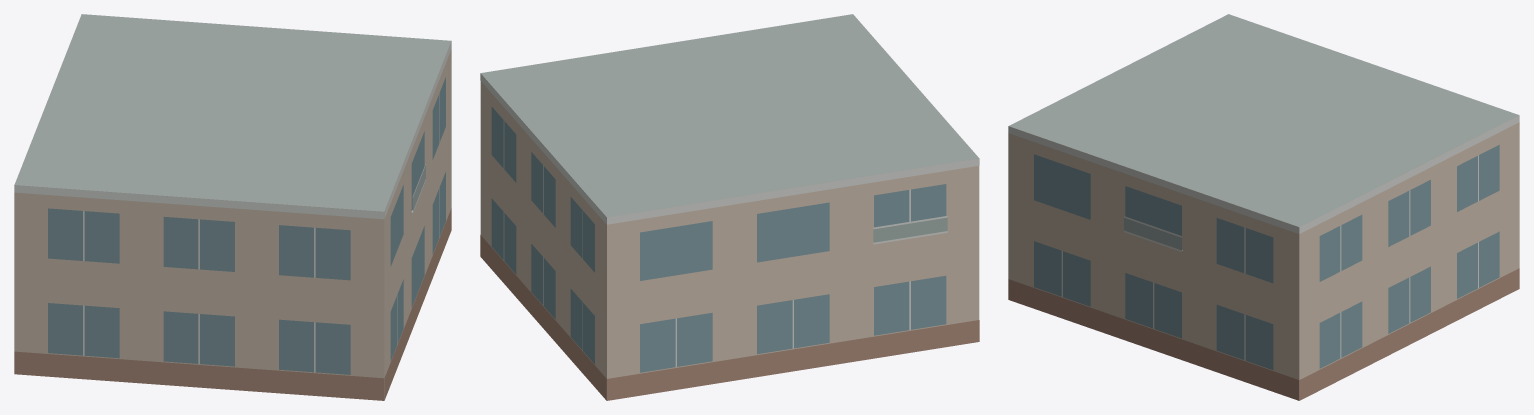
Rendered from survey-upis-32775712.glb.
3 renders of one model, left to right at view 1: azimuth 30°, elevation 25°; view 2: azimuth 150°, elevation 25°; view 3: azimuth 270°, elevation 25°, orthographic. The views are drawn at different scales.
Visible parts, largest first — view 1: survey-upis-32775712.tmp; view 2: survey-upis-32775712.tmp; view 3: survey-upis-32775712.tmp.
Boxes of the visible parts, <box> form: survey-upis-32775712.tmp: <box>14,14,451,400</box>; survey-upis-32775712.tmp: <box>480,14,979,400</box>; survey-upis-32775712.tmp: <box>1008,14,1519,400</box>.
Bounding box in the file's own units: 16.07 × 6.1 × 16.28.
